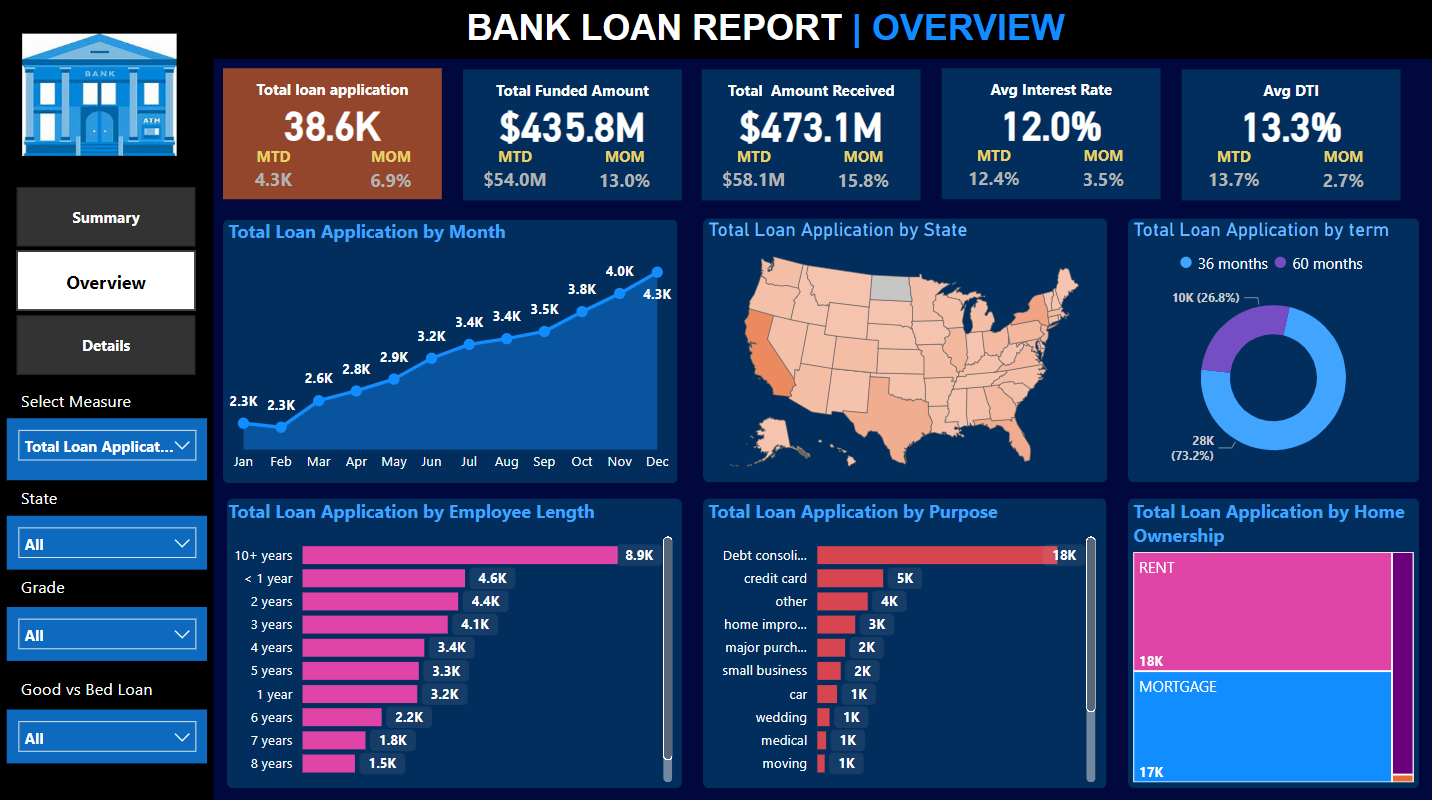

What the dashboard file says about the page in this screenshot:
{"tool":"powerbi","page":{"name":"Overview","canvas":[1280,720],"ordinal":1},"visuals":[{"type":"shape","box":[200.3,63.9,194.9,116.6],"z":0,"group":"g1"},{"type":"shape","box":[840.9,63.9,194.9,116.6],"z":0,"group":"g4"},{"type":"shape","box":[414.4,64.5,194.9,116.6],"z":0,"group":"g2"},{"type":"shape","box":[627.1,64.5,194.9,116.6],"z":0,"group":"g3"},{"type":"shape","box":[1053.9,64.5,194.9,116.6],"z":0,"group":"g5"},{"type":"shape","box":[200.3,197.6,405,235],"z":0},{"type":"shape","box":[0,0,1280.3,55],"z":1000},{"type":"card","fields":{"Values":["Bank_Loan_Data.Total Loan Application"]},"box":[200.3,83.1,194.9,59],"z":1000,"group":"g1"},{"type":"card","fields":{"Values":["Bank_Loan_Data.Avg Interest Rate"]},"box":[840.9,83.1,194.9,59],"z":1000,"group":"g4"},{"type":"card","fields":{"Values":["Bank_Loan_Data.Total Funded Amount"]},"box":[414.4,83.7,194.9,59],"z":1000,"group":"g2"},{"type":"card","fields":{"Values":["Bank_Loan_Data.Total Amount Received"]},"box":[627.1,83.7,194.9,59],"z":1000,"group":"g3"},{"type":"card","fields":{"Values":["Bank_Loan_Data.Avg DTI"]},"box":[1053.9,83.7,194.9,59],"z":1000,"group":"g5"},{"type":"shape","box":[0,54.3,191.8,666],"z":2000},{"type":"textbox","box":[200.3,68,194.9,30.2],"z":2000,"group":"g1"},{"type":"textbox","box":[840.9,68,194.9,30.2],"z":2000,"group":"g4"},{"type":"textbox","box":[414.4,68.6,194.9,30.2],"z":2000,"group":"g2"},{"type":"textbox","box":[627.1,68.6,194.9,30.2],"z":2000,"group":"g3"},{"type":"textbox","box":[1053.9,68.6,194.9,30.2],"z":2000,"group":"g5"},{"type":"textbox","box":[395.2,4.1,585.9,46.7],"z":3000},{"type":"card","title":"MTD","fields":{"Values":["Bank_Loan_Data.MTD Avg int Rate"]},"box":[851,132.2,72.7,46.7],"z":3000,"group":"g4"},{"type":"card","title":"MTD","fields":{"Values":["Bank_Loan_Data.MTD Laon Application"]},"box":[219.5,132.5,52.1,46.7],"z":3000,"group":"g1"},{"type":"card","title":"MTD","fields":{"Values":["Bank_Loan_Data.MTD Funded Amount"]},"box":[424.5,132.8,72.7,46.7],"z":3000,"group":"g2"},{"type":"card","title":"MTD","fields":{"Values":["Bank_Loan_Data.MTD Amount Received"]},"box":[637.2,132.8,72.7,46.7],"z":3000,"group":"g3"},{"type":"card","title":"MTD","fields":{"Values":["Bank_Loan_Data.MTD Avg dti"]},"box":[1064,132.8,72.7,46.7],"z":3000,"group":"g5"},{"type":"group","id":"g1","title":"Group 1","box":[200.3,63.9,195.4,115.8],"z":4000},{"type":"card","title":"MOM","fields":{"Values":["Bank_Loan_Data.MOM Avg int Rate"]},"box":[953.9,132.2,63.1,48],"z":4000,"group":"g4"},{"type":"card","title":"MOM","fields":{"Values":["Bank_Loan_Data.MOM Loan Application"]},"box":[323.8,132.5,52.1,48],"z":4000,"group":"g1"},{"type":"card","title":"MOM","fields":{"Values":["Bank_Loan_Data.MOM Funded Amount"]},"box":[527.4,132.8,63.1,48],"z":4000,"group":"g2"},{"type":"card","title":"MOM","fields":{"Values":["Bank_Loan_Data.MOM Amount Received"]},"box":[740.1,132.8,63.1,48],"z":4000,"group":"g3"},{"type":"card","title":"MOM","fields":{"Values":["Bank_Loan_Data.MOM Avg Dti"]},"box":[1166.9,132.8,63.1,48],"z":4000,"group":"g5"},{"type":"group","id":"g2","title":"Group 1","box":[414.4,64.5,194.9,116.6],"z":5000},{"type":"group","id":"g3","title":"Group 1","box":[627.1,64.5,194.9,116.6],"z":6000},{"type":"group","id":"g4","title":"Group 1","box":[840.9,63.9,194.2,115.8],"z":7000},{"type":"group","id":"g5","title":"Group 1","box":[1053.9,64.5,194.9,116.6],"z":8000},{"type":"slicer","fields":{"Values":["Bank_Loan_Data.address_state"]},"box":[7.2,462.1,178.6,48.3],"z":9000},{"type":"textbox","box":[15.7,430.7,55.5,31.4],"z":10000},{"type":"slicer","fields":{"Values":["Bank_Loan_Data.grade"]},"box":[7.2,542.9,178.6,48.3],"z":11000},{"type":"slicer","fields":{"Values":["Bank_Loan_Data.Good vs Bad loan"]},"box":[7.2,634.6,178.6,48.3],"z":12000},{"type":"textbox","box":[15.7,510.3,71.2,38.6],"z":13000},{"type":"textbox","box":[15.7,600.8,158,33.8],"z":14000},{"type":"shape","box":[627.3,196.6,360,235.3],"z":15000},{"type":"shape","box":[1006.2,196.6,259.4,235.3],"z":16000},{"type":"slicer","fields":{"Values":["Select measure 3.Select measure"]},"box":[7.2,375.2,178.6,55.5],"z":17000},{"type":"textbox","box":[15.7,343.8,117,31.4],"z":18000},{"type":"areaChart","fields":{"Y":["Bank_Loan_Data.Total Loan Application"],"Category":["Date Table.Month"]},"box":[200.3,196.6,405.4,235.3],"z":19000},{"type":"shapeMap","fields":{"Value":["Bank_Loan_Data.Total Loan Application"],"Category":["Bank_Loan_Data.address_state"]},"box":[627.3,196.6,359.5,236.5],"z":20000},{"type":"donutChart","fields":{"Y":["Bank_Loan_Data.Total Loan Application"],"Category":["Bank_Loan_Data.term"]},"box":[1006.2,196.6,259.4,235.3],"z":21000},{"type":"shape","box":[203.9,446.4,405.4,258.2],"z":22000},{"type":"barChart","fields":{"Y":["Bank_Loan_Data.Total Loan Application"],"Category":["Bank_Loan_Data.emp_length"]},"box":[200.3,446.4,405.4,258.2],"z":23000},{"type":"shape","box":[627.3,446.4,359.5,258.2],"z":24000},{"type":"barChart","fields":{"Y":["Bank_Loan_Data.Total Loan Application"],"Category":["Bank_Loan_Data.purpose"]},"box":[627.3,446.4,354.7,258.2],"z":25000},{"type":"shape","box":[1006.2,446.4,259.4,258.2],"z":26000},{"type":"treemap","fields":{"Values":["Bank_Loan_Data.Total Loan Application"],"Group":["Bank_Loan_Data.home_ownership"]},"box":[1006.2,446.4,259.4,258.2],"z":27000},{"type":"pageNavigator","box":[16.9,168.9,159.3,168.9],"z":27001},{"type":"image","box":[16.9,27.7,147.2,118.2],"z":27002}]}

Visuals, with their boxes in screenshot pixels (x1, y1, x2, y2), scaled from the page's 1280x720 canvas onto the 1432x800 screenshot:
shape: rect(224, 71, 442, 201)
shape: rect(941, 71, 1159, 201)
shape: rect(464, 72, 682, 201)
shape: rect(702, 72, 920, 201)
shape: rect(1179, 72, 1397, 201)
shape: rect(224, 220, 677, 481)
shape: rect(0, 0, 1431, 61)
card - Bank_Loan_Data.Total Loan Application: rect(224, 92, 442, 158)
card - Bank_Loan_Data.Avg Interest Rate: rect(941, 92, 1159, 158)
card - Bank_Loan_Data.Total Funded Amount: rect(464, 93, 682, 159)
card - Bank_Loan_Data.Total Amount Received: rect(702, 93, 920, 159)
card - Bank_Loan_Data.Avg DTI: rect(1179, 93, 1397, 159)
shape: rect(0, 60, 215, 799)
textbox: rect(224, 76, 442, 109)
textbox: rect(941, 76, 1159, 109)
textbox: rect(464, 76, 682, 110)
textbox: rect(702, 76, 920, 110)
textbox: rect(1179, 76, 1397, 110)
textbox: rect(442, 5, 1098, 56)
"MTD" card: rect(952, 147, 1033, 199)
"MTD" card: rect(246, 147, 304, 199)
"MTD" card: rect(475, 148, 556, 199)
"MTD" card: rect(713, 148, 794, 199)
"MTD" card: rect(1190, 148, 1272, 199)
"Group 1" group: rect(224, 71, 443, 200)
"MOM" card: rect(1067, 147, 1138, 200)
"MOM" card: rect(362, 147, 421, 201)
"MOM" card: rect(590, 148, 661, 201)
"MOM" card: rect(828, 148, 899, 201)
"MOM" card: rect(1305, 148, 1376, 201)
"Group 1" group: rect(464, 72, 682, 201)
"Group 1" group: rect(702, 72, 920, 201)
"Group 1" group: rect(941, 71, 1158, 200)
"Group 1" group: rect(1179, 72, 1397, 201)
slicer - Bank_Loan_Data.address_state: rect(8, 513, 208, 567)
textbox: rect(18, 479, 80, 513)
slicer - Bank_Loan_Data.grade: rect(8, 603, 208, 657)
slicer - Bank_Loan_Data.Good vs Bad loan: rect(8, 705, 208, 759)
textbox: rect(18, 567, 97, 610)
textbox: rect(18, 668, 194, 705)
shape: rect(702, 218, 1105, 480)
shape: rect(1126, 218, 1416, 480)
slicer - Select measure 3.Select measure: rect(8, 417, 208, 479)
textbox: rect(18, 382, 148, 417)
areaChart - Bank_Loan_Data.Total Loan Application x Date Table.Month: rect(224, 218, 678, 480)
shapeMap - Bank_Loan_Data.Total Loan Application x Bank_Loan_Data.address_state: rect(702, 218, 1104, 481)
donutChart - Bank_Loan_Data.Total Loan Application x Bank_Loan_Data.term: rect(1126, 218, 1416, 480)
shape: rect(228, 496, 682, 783)
barChart - Bank_Loan_Data.Total Loan Application x Bank_Loan_Data.emp_length: rect(224, 496, 678, 783)
shape: rect(702, 496, 1104, 783)
barChart - Bank_Loan_Data.Total Loan Application x Bank_Loan_Data.purpose: rect(702, 496, 1099, 783)
shape: rect(1126, 496, 1416, 783)
treemap - Bank_Loan_Data.Total Loan Application x Bank_Loan_Data.home_ownership: rect(1126, 496, 1416, 783)
pageNavigator: rect(19, 188, 197, 375)
image: rect(19, 31, 184, 162)
